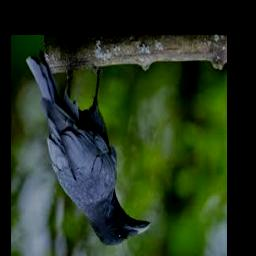Crow: (26, 51, 151, 246)
